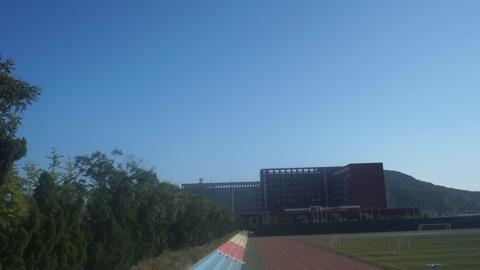UAV: (426, 264, 444, 270)
